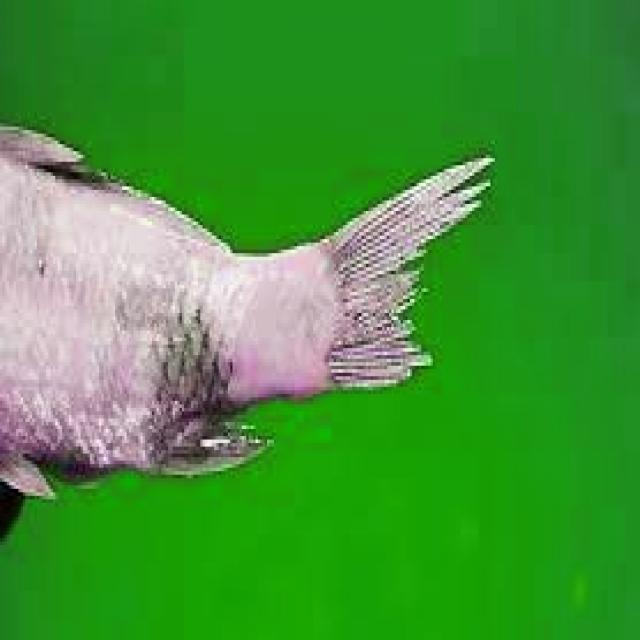EUS Disease: (1, 114, 494, 520)
